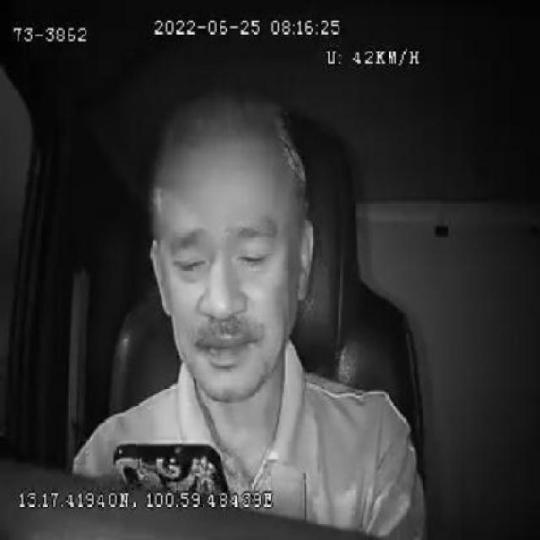phone: (113, 440, 230, 490)
